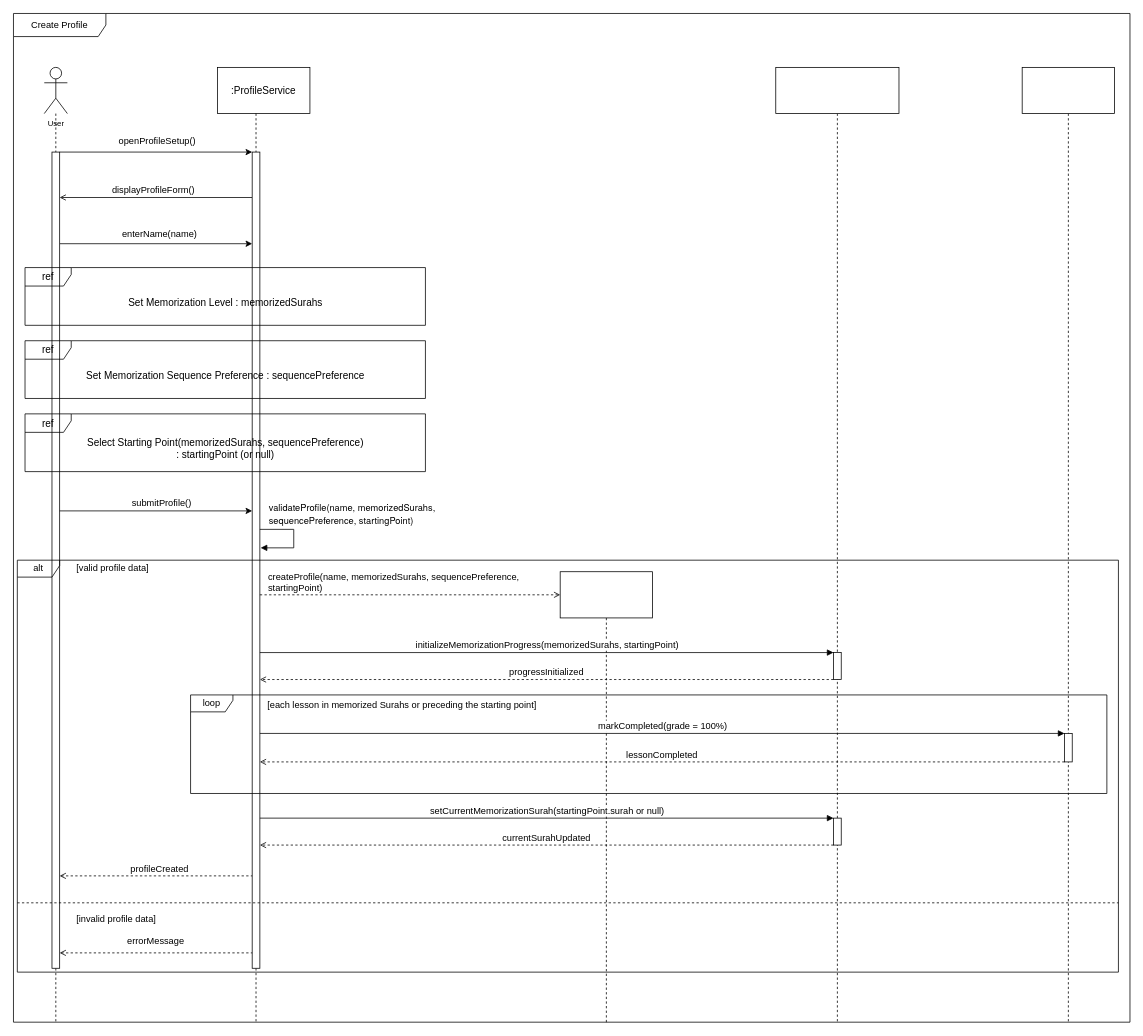
Image size: 1143x1036. Some labels were removed from this diagram. The centre of each missing label's shape, as x and y in pixels:
":Lesson" goes at point (1068, 90).
":Profile" goes at point (606, 594).
":SurahProgress" goes at point (837, 90).
